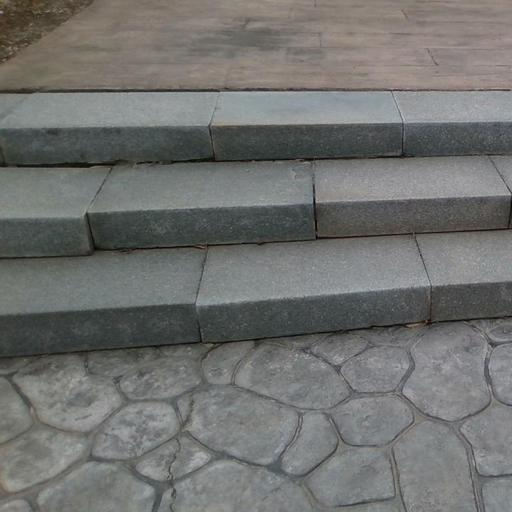stairs: (0, 92, 511, 354)
